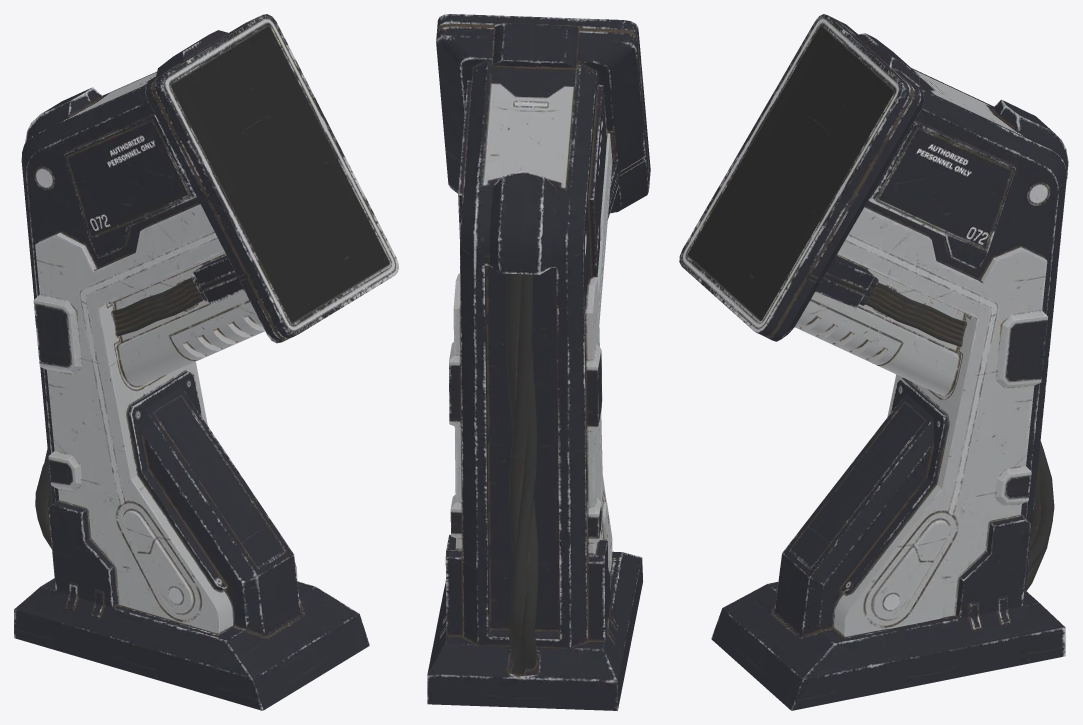
Rendered from sci-fi_terminal.glb.
The picture shows the model from 3 angles, left to right: view 1: azimuth 30°, elevation 25°; view 2: azimuth 150°, elevation 25°; view 3: azimuth 270°, elevation 25°; orthographic projection.
Visible parts, largest first — view 1: Object_4; view 2: Object_4; view 3: Object_4.
Boxes of the visible parts, x1,y1,x2,y2 form: Object_4: (14, 14, 398, 710); Object_4: (427, 14, 650, 710); Object_4: (679, 14, 1068, 710).
Size of the model in its own units: 0.6458 by 1.36 by 0.7938.
Materials: 1 (1 with a texture image).
